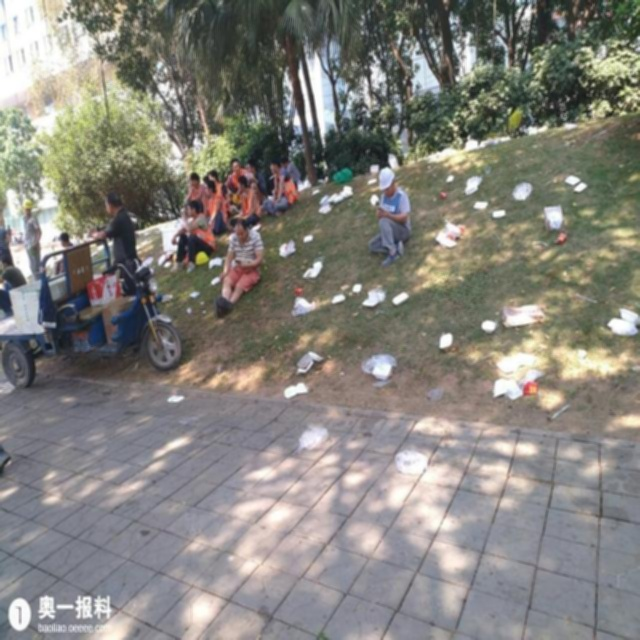Con_Casco: (377, 167, 398, 196)
